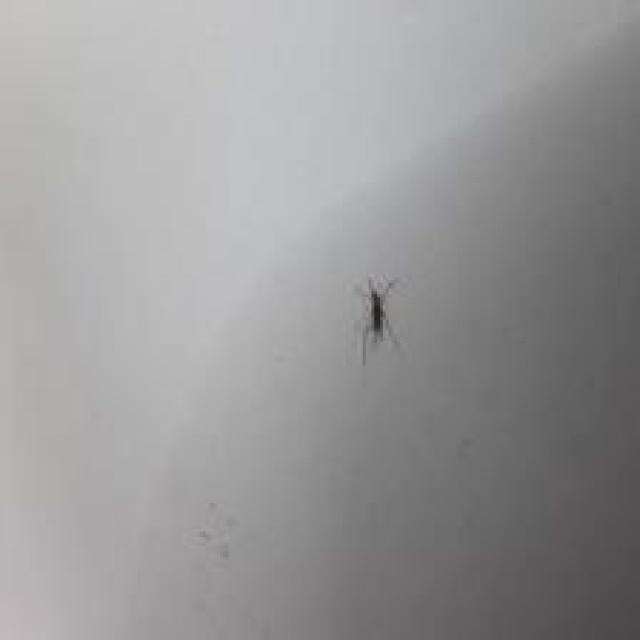Culex: (354, 271, 403, 366)
